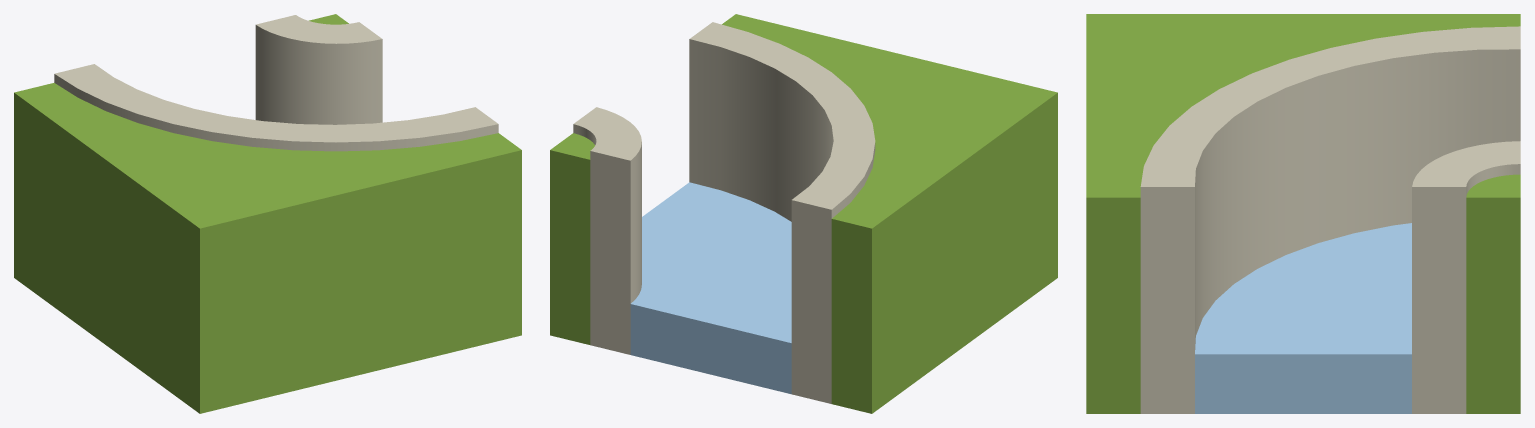
Rendered from roadTile_234.fbx.
3 views of the same model, side by side, from view 1: azimuth 30°, elevation 25°; view 2: azimuth 150°, elevation 25°; view 3: azimuth 270°, elevation 25° (orthographic). The views are drawn at different scales.
Visible parts, largest first — view 1: roadTile_234; view 2: roadTile_234; view 3: roadTile_234.
Part boxes in pixels (bbox=[...]): roadTile_234: bbox=[14, 14, 521, 413]; roadTile_234: bbox=[550, 14, 1057, 413]; roadTile_234: bbox=[1086, 14, 1520, 413].
Bounding box in the file's own units: 118 × 68.11 × 118.
